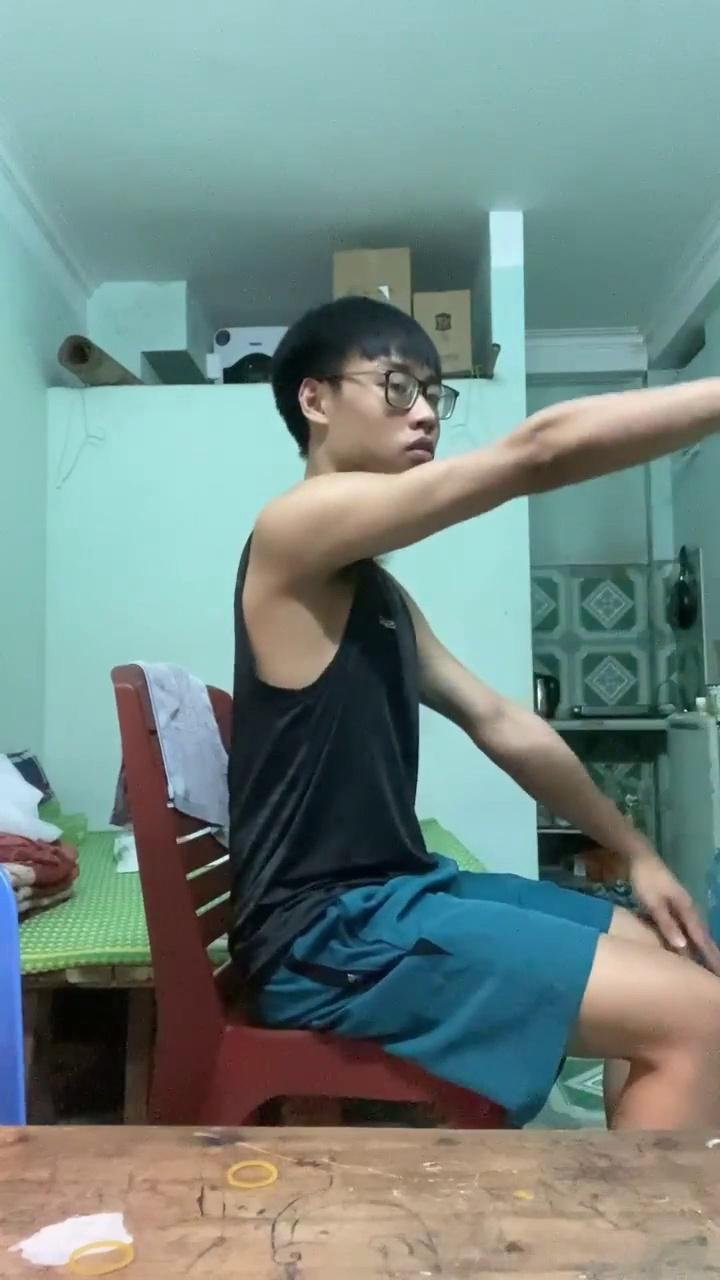GoodPosture: (162, 294, 719, 1105)
